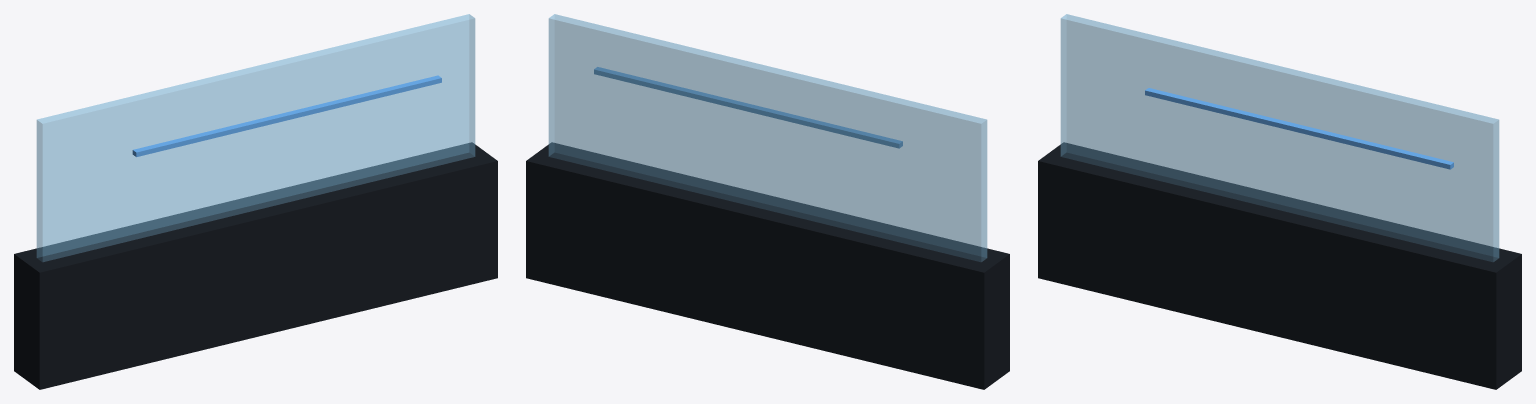
File: window.cracked_cover_glass.glb
The picture shows the model from 3 angles, left to right: view 1: azimuth 30°, elevation 25°; view 2: azimuth 150°, elevation 25°; view 3: azimuth 330°, elevation 25°; orthographic projection.
Parts seen in each view (by area): view 1: low_wall_cover, cracked_glass, crack_stripe; view 2: low_wall_cover, cracked_glass, crack_stripe; view 3: low_wall_cover, cracked_glass, crack_stripe.
Boxes of the visible parts, box(x1,y1,x2,y2) form: low_wall_cover: box(14, 142, 497, 389); cracked_glass: box(36, 14, 475, 261); crack_stripe: box(132, 75, 441, 157); low_wall_cover: box(526, 142, 1009, 389); cracked_glass: box(548, 14, 987, 261); crack_stripe: box(594, 67, 902, 148); low_wall_cover: box(1038, 142, 1521, 389); cracked_glass: box(1060, 14, 1499, 261); crack_stripe: box(1145, 88, 1453, 169).
Bounding box in the file's own units: 3.6 × 1.92 × 0.35.
